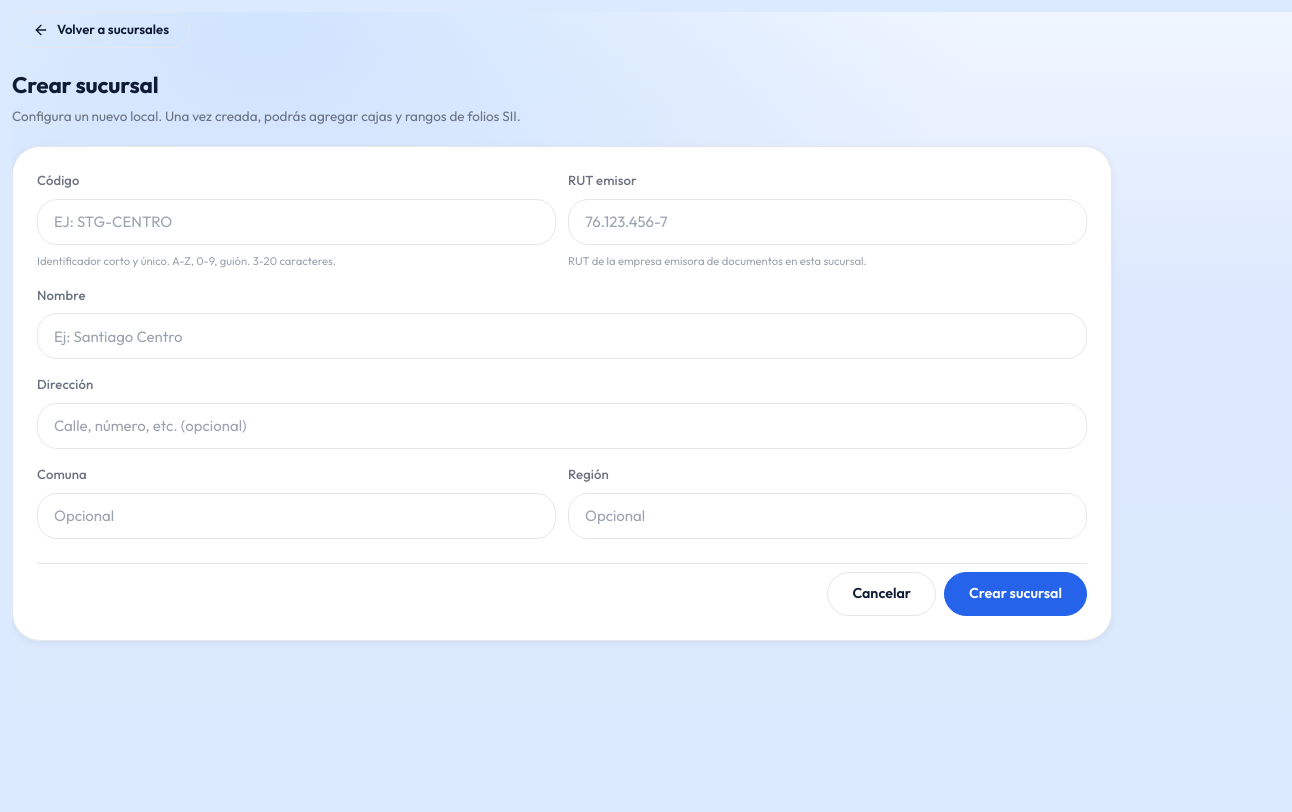
Scenario: EditarSucursalPage (crear) › valida zod: RUT inválido bloquea submit
The width and height of the screenshot is (1292, 812).
Step 1. Type "STG-CENTRO" into the field labelled "Código" → (296, 222), box [38, 200, 555, 244]
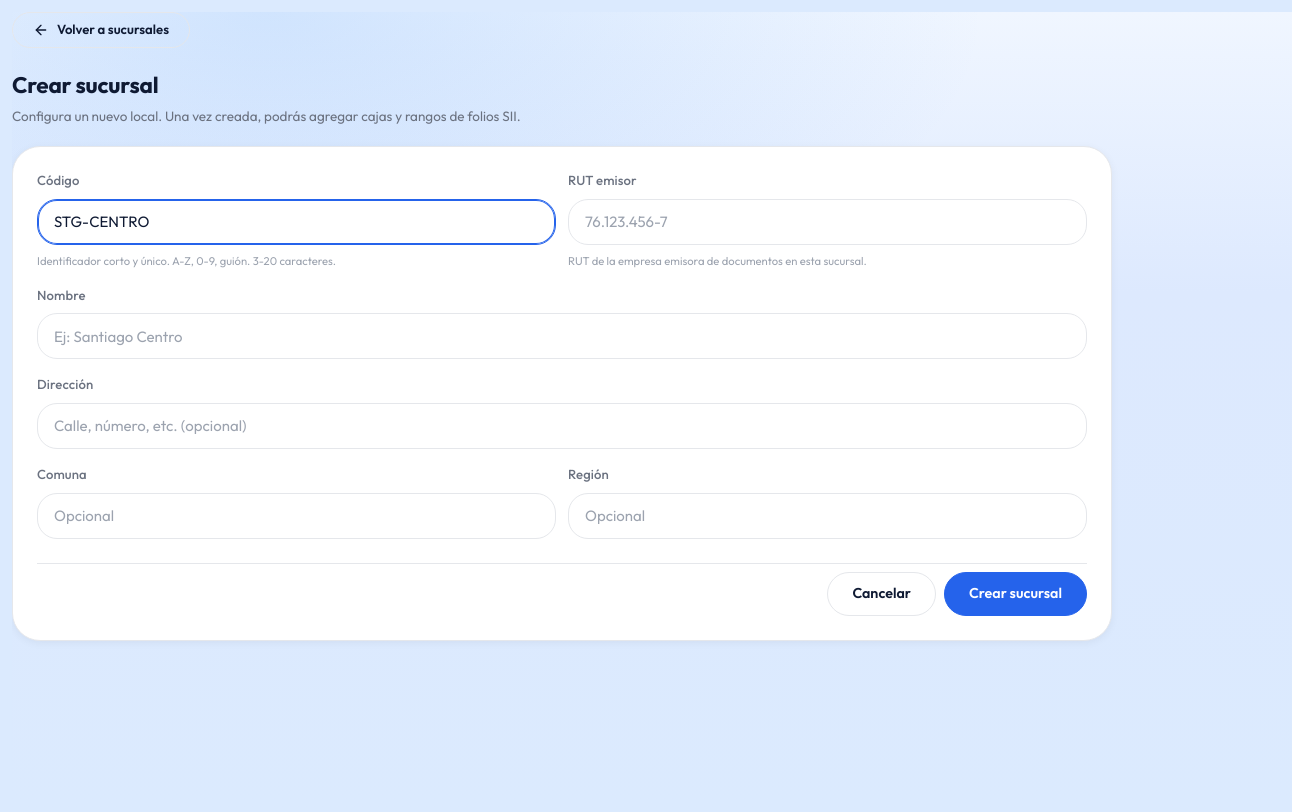
Step 2. Type "Sucursal Test" into the field labelled "Nombre" → (562, 336), box [38, 314, 1086, 358]
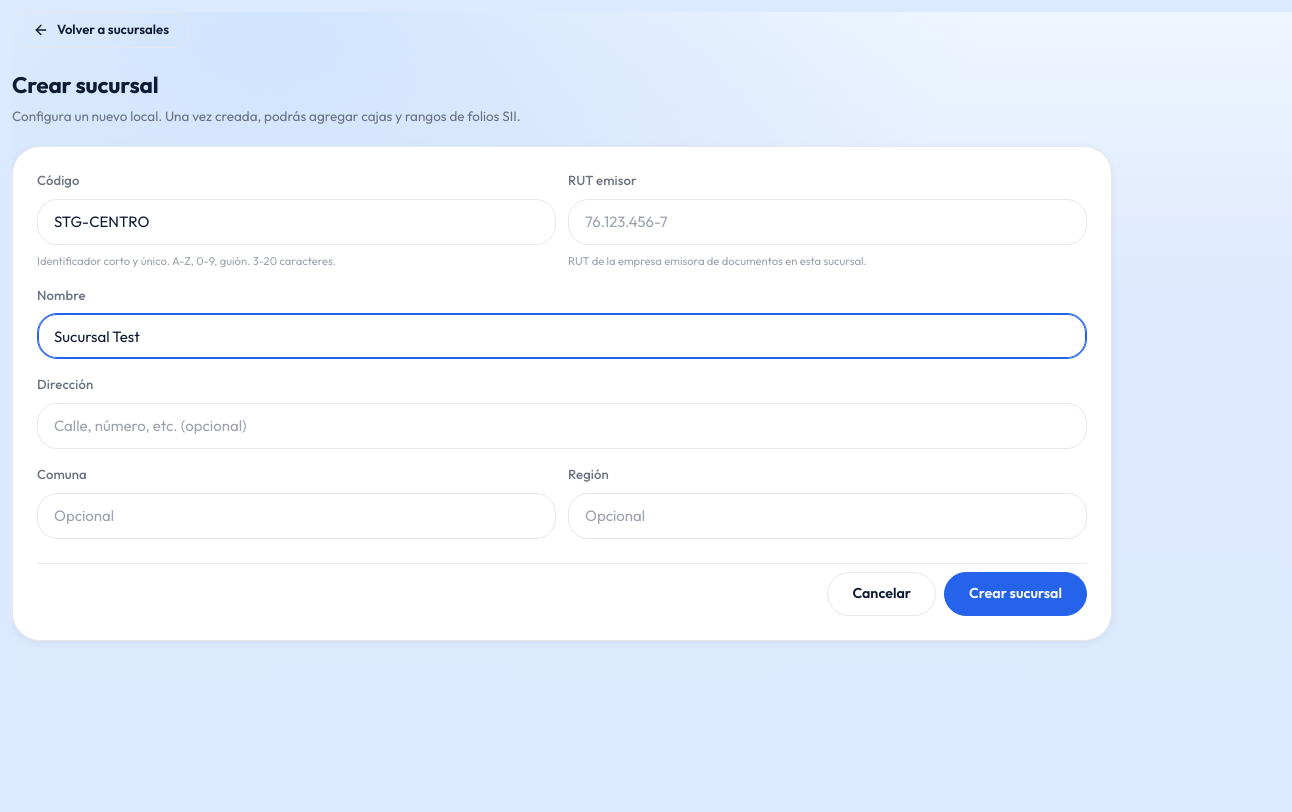
Step 3. Type "no-es-rut" into the field labelled "RUT emisor" → (828, 222), box [569, 200, 1086, 244]
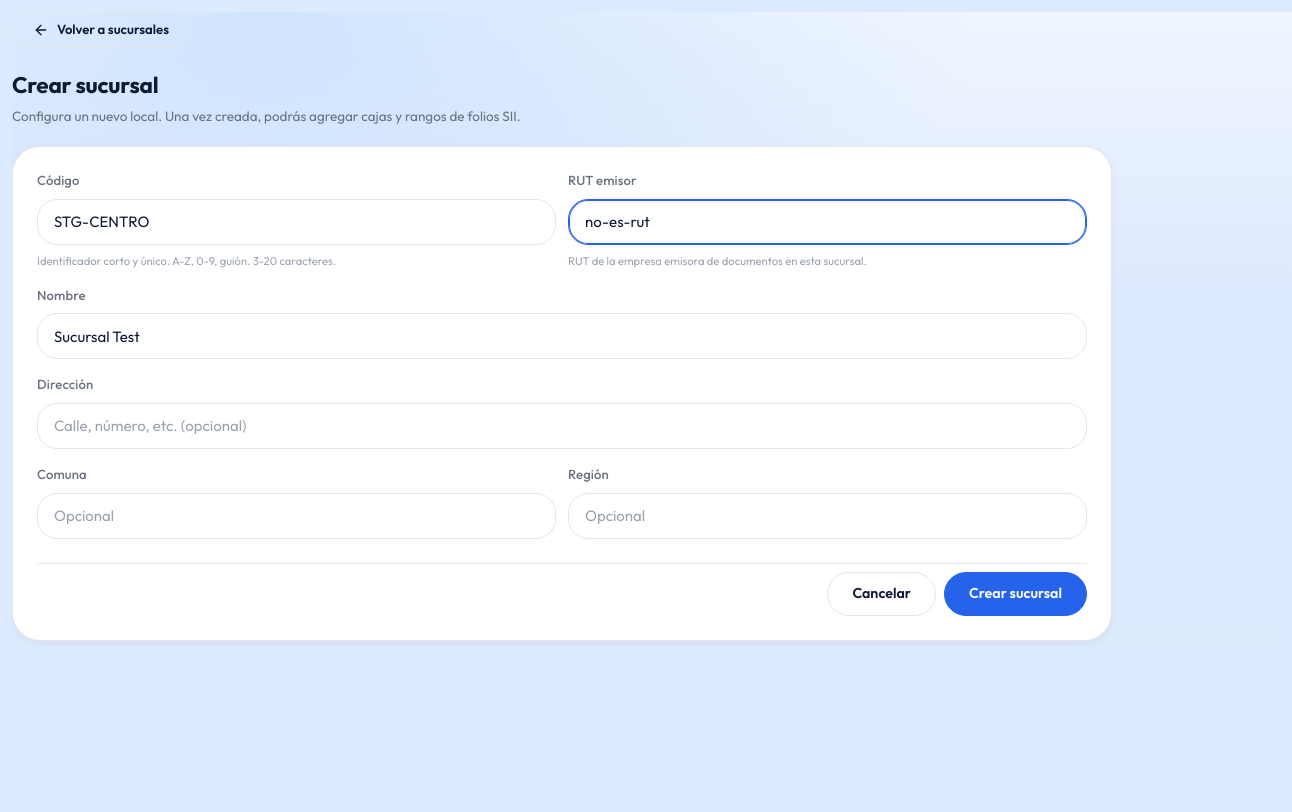
Step 4. Click the button "Crear sucursal" → click(1016, 594), box [944, 572, 1087, 616]
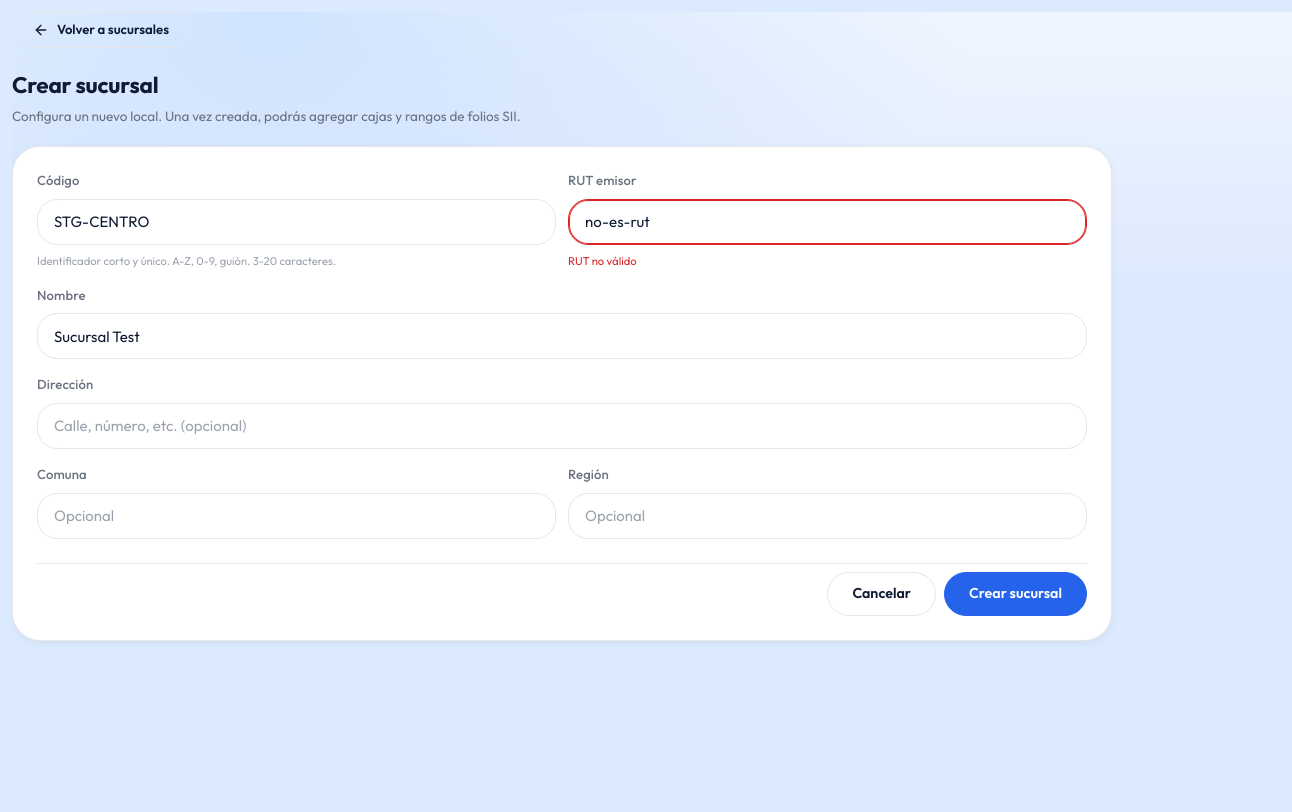
Expected: the text "RUT no válido" is shown, [568, 254, 637, 268]
